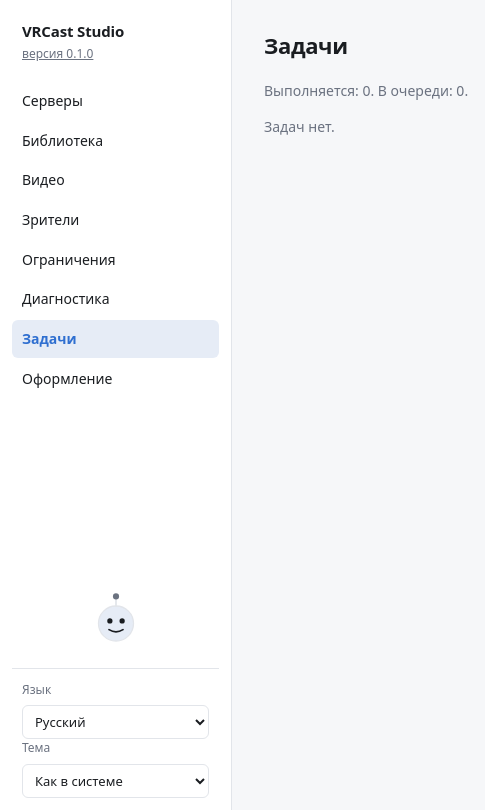
Test: language › changes the whole screen when the language is switched
Expected: the text "Задач нет." is shown, [264, 117, 335, 136]
Select "English" in the dropdown labelled "Язык": (116, 722) [22, 705, 209, 739]
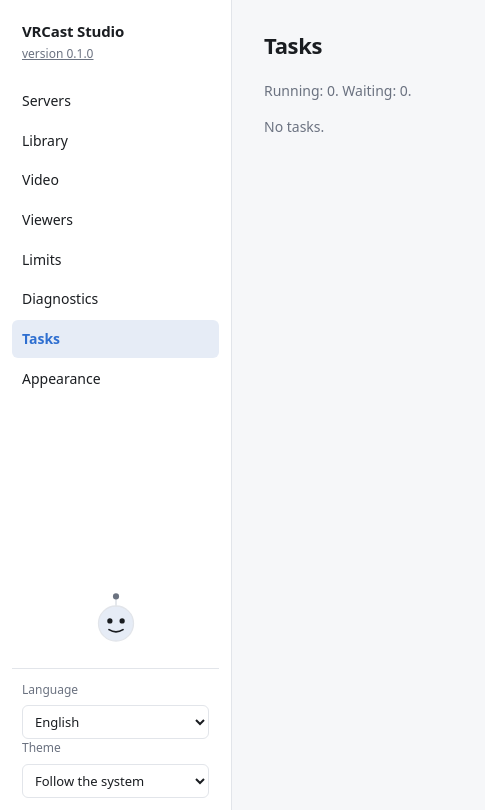
Expected: the text "No tasks." is shown, [264, 117, 324, 136]
Expected: the text "Задач нет." is gone
